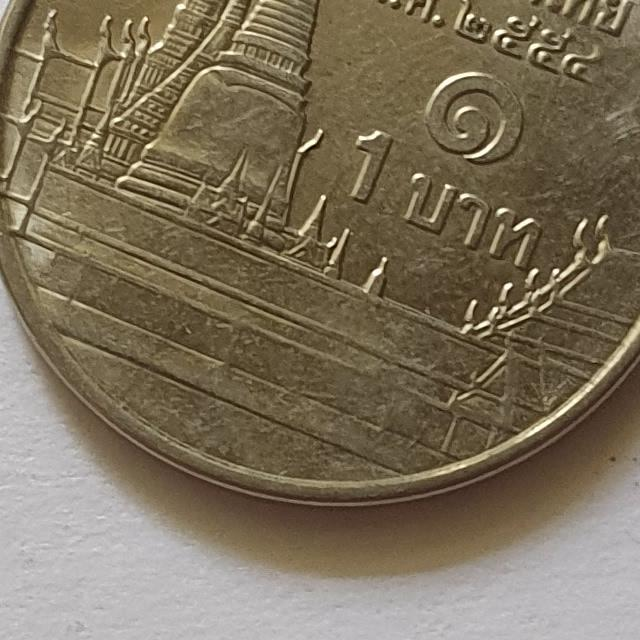1 Bath: (4, 1, 640, 514)
